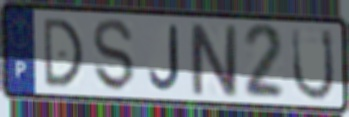2: (241, 21, 288, 103)
D: (41, 16, 86, 90)
J: (146, 23, 183, 94)
N: (187, 20, 241, 100)
S: (91, 17, 137, 95)
U: (290, 25, 337, 104)
